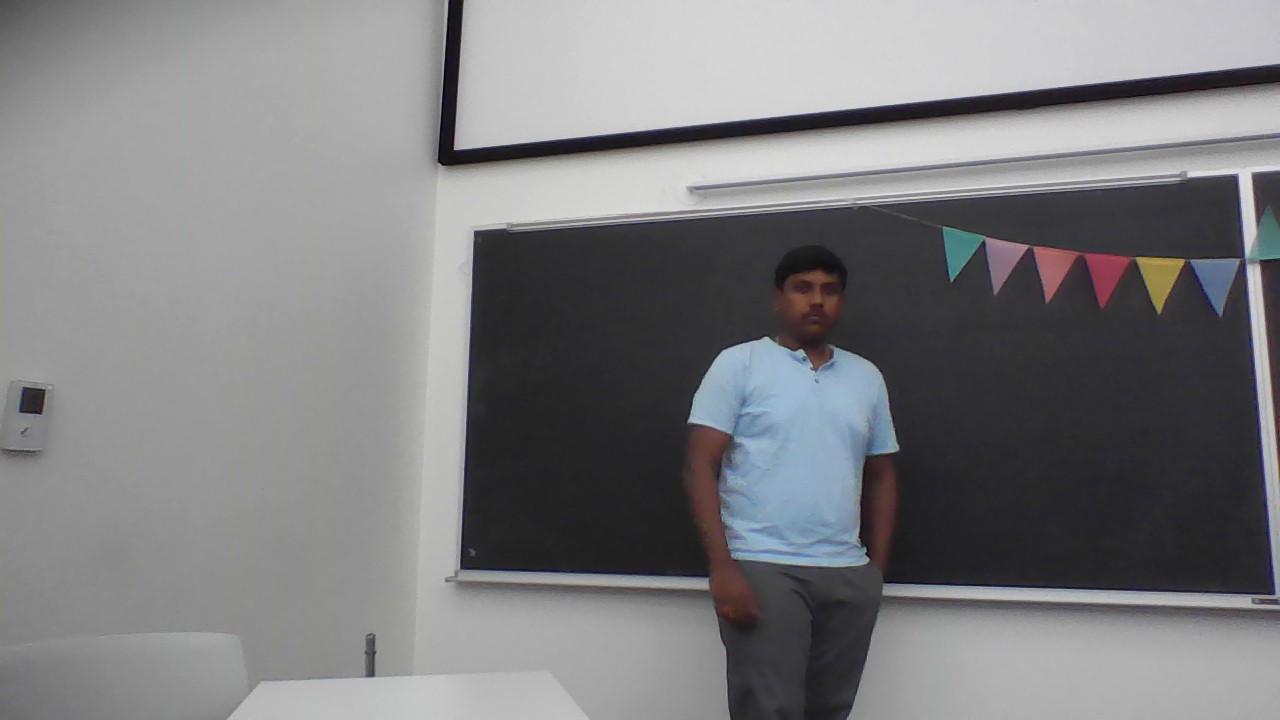he: (656, 246, 923, 720)
hip_frame: (715, 546, 872, 576)
shoulder_frame: (711, 361, 884, 393)
waist_frame: (722, 471, 860, 498)
